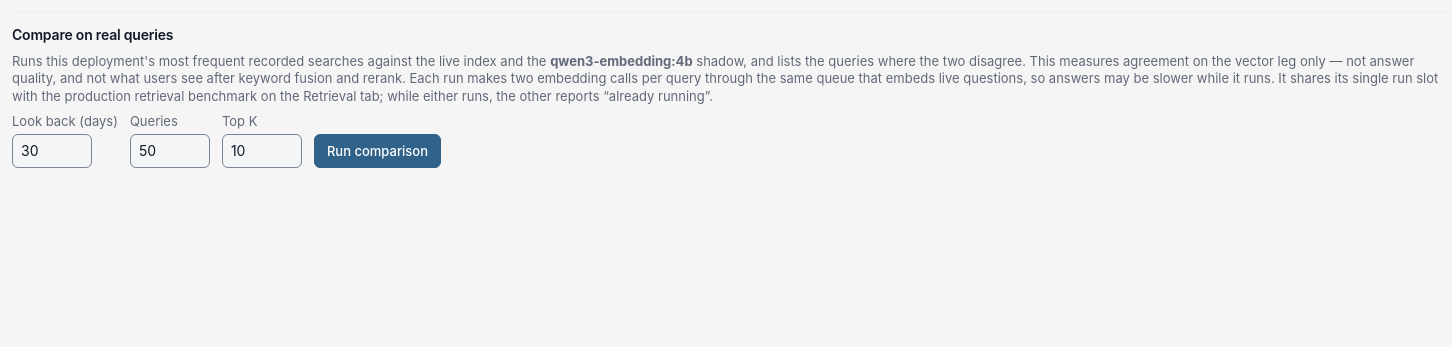
Test: EmbeddingShadowCompareSection (#1260) › keeps the judged verdict visible on a fully agreeing run when the pair carries earlier judgements
Click the button with test id "shadow-compare-start". click: (377, 151)
box: [314, 134, 441, 168]
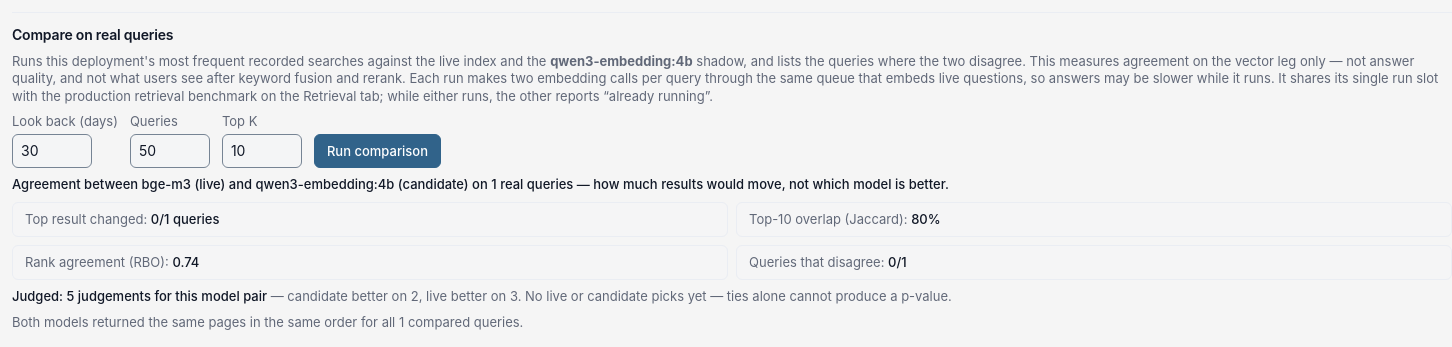
Check: the element with test id "shadow-compare-result" is shown, box [12, 176, 1451, 331]
Check: the element with test id "shadow-compare-verdict" shows "5 judgements", box [12, 288, 952, 304]
